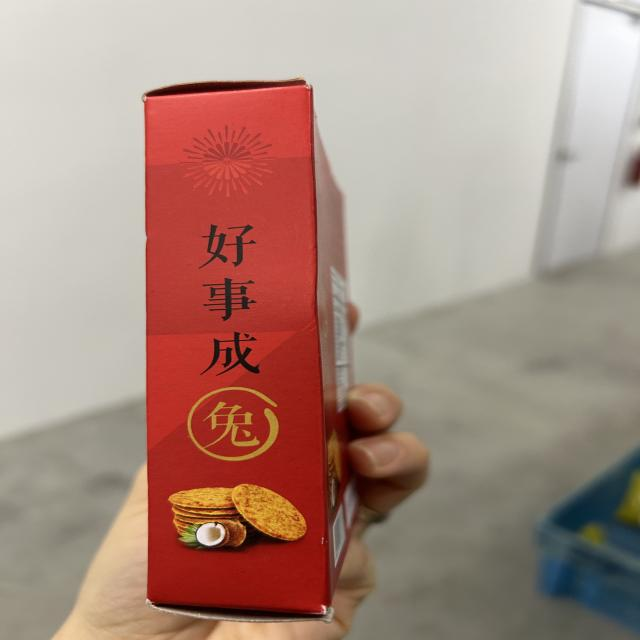object_name: (146, 81, 328, 617)
